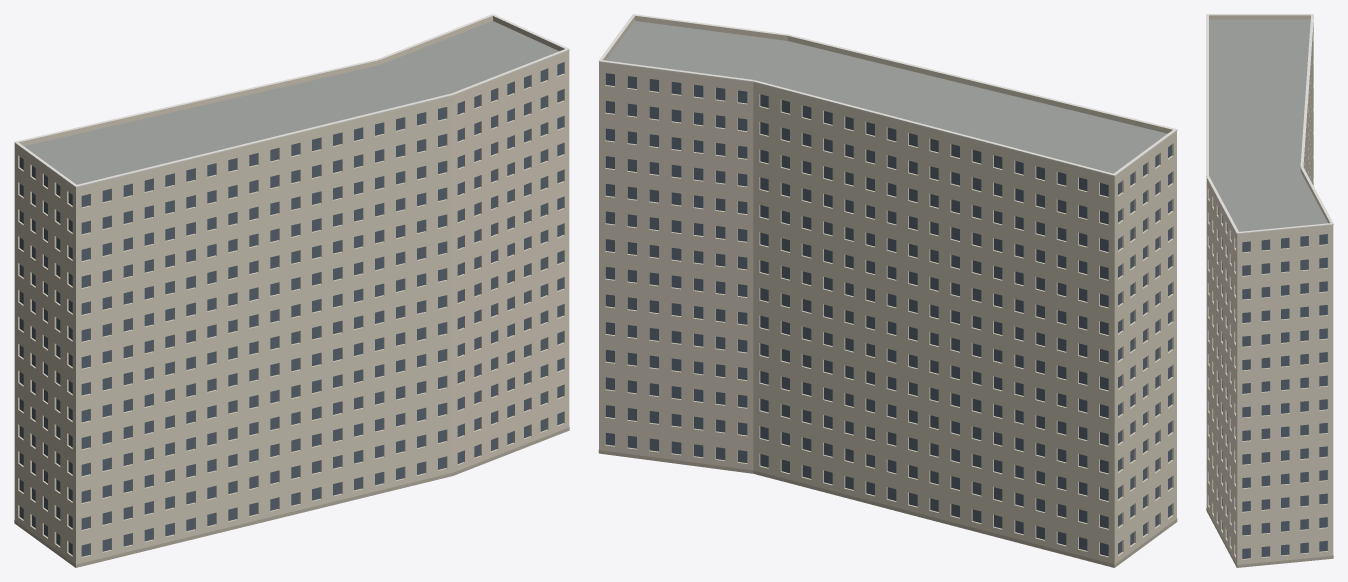
The picture shows the model from 3 angles, left to right: view 1: azimuth 30°, elevation 25°; view 2: azimuth 150°, elevation 25°; view 3: azimuth 270°, elevation 25°; orthographic projection. The views are drawn at different scales.
Parts seen in each view (by area): view 1: gonzagaHall__wall, gonzagaHall__glass, gonzagaHall__roof, gonzagaHall__parapet, gonzagaHall__trim, gonzagaHall__base; view 2: gonzagaHall__wall, gonzagaHall__glass, gonzagaHall__roof, gonzagaHall__parapet, gonzagaHall__trim, gonzagaHall__base; view 3: gonzagaHall__wall, gonzagaHall__roof, gonzagaHall__glass, gonzagaHall__trim, gonzagaHall__parapet, gonzagaHall__base.
Part boxes in pixels (<box>): gonzagaHall__wall: <box>14,54,569,567</box>; gonzagaHall__glass: <box>19,62,563,556</box>; gonzagaHall__roof: <box>24,21,558,184</box>; gonzagaHall__parapet: <box>14,16,569,191</box>; gonzagaHall__trim: <box>14,14,569,187</box>; gonzagaHall__base: <box>14,427,569,567</box>; gonzagaHall__wall: <box>599,66,1176,567</box>; gonzagaHall__glass: <box>605,73,1171,556</box>; gonzagaHall__roof: <box>606,21,1167,173</box>; gonzagaHall__parapet: <box>599,15,1176,180</box>; gonzagaHall__trim: <box>598,14,1177,176</box>; gonzagaHall__base: <box>598,450,1177,567</box>; gonzagaHall__wall: <box>1206,23,1333,567</box>; gonzagaHall__roof: <box>1209,19,1327,231</box>; gonzagaHall__glass: <box>1209,191,1327,558</box>; gonzagaHall__trim: <box>1206,14,1333,233</box>; gonzagaHall__parapet: <box>1206,15,1333,237</box>; gonzagaHall__base: <box>1206,508,1333,567</box>.
Bounding box in the file's own units: 63.8 × 45.4 × 15.71.
